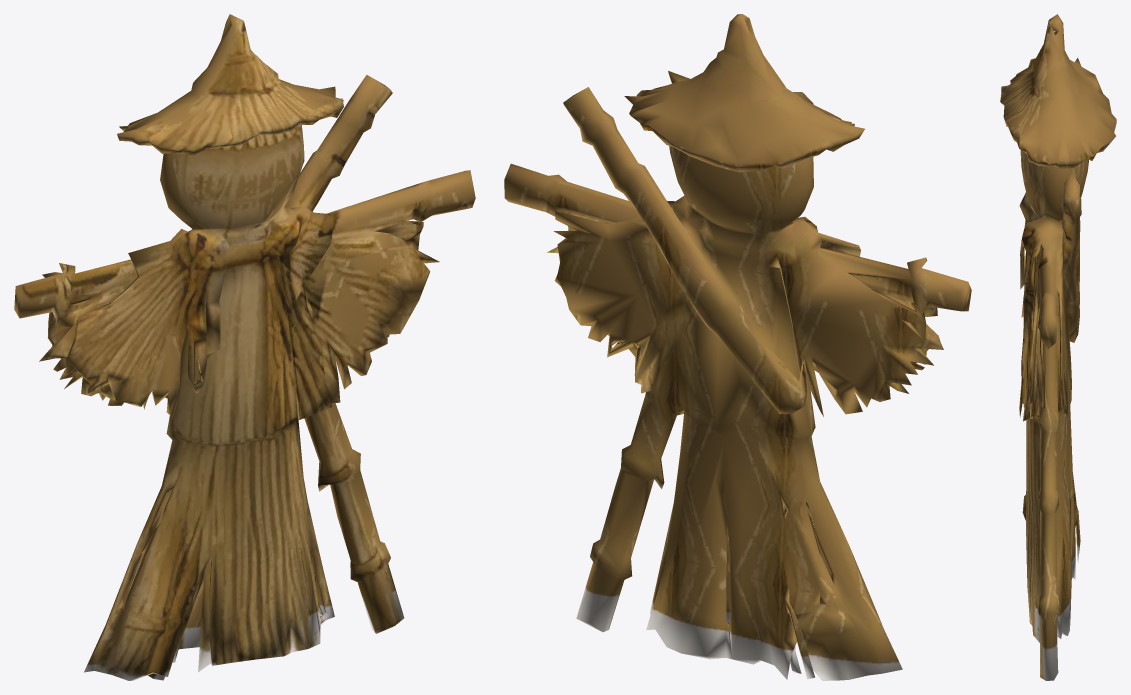
The model's file is toad-prop3d-scarecrow.glb.
3 views of the same model, side by side, from view 1: azimuth 30°, elevation 25°; view 2: azimuth 150°, elevation 25°; view 3: azimuth 270°, elevation 25° (orthographic). The views are drawn at different scales.
Parts seen in each view (by area): view 1: world; view 2: world; view 3: world.
Part boxes in pixels (<box>): world: <box>14,14,475,680</box>; world: <box>504,14,971,680</box>; world: <box>1000,14,1116,680</box>.
Bounding box in the file's own units: 0.25 × 0.34 × 0.06.
Materials: 1 (1 with a texture image).
